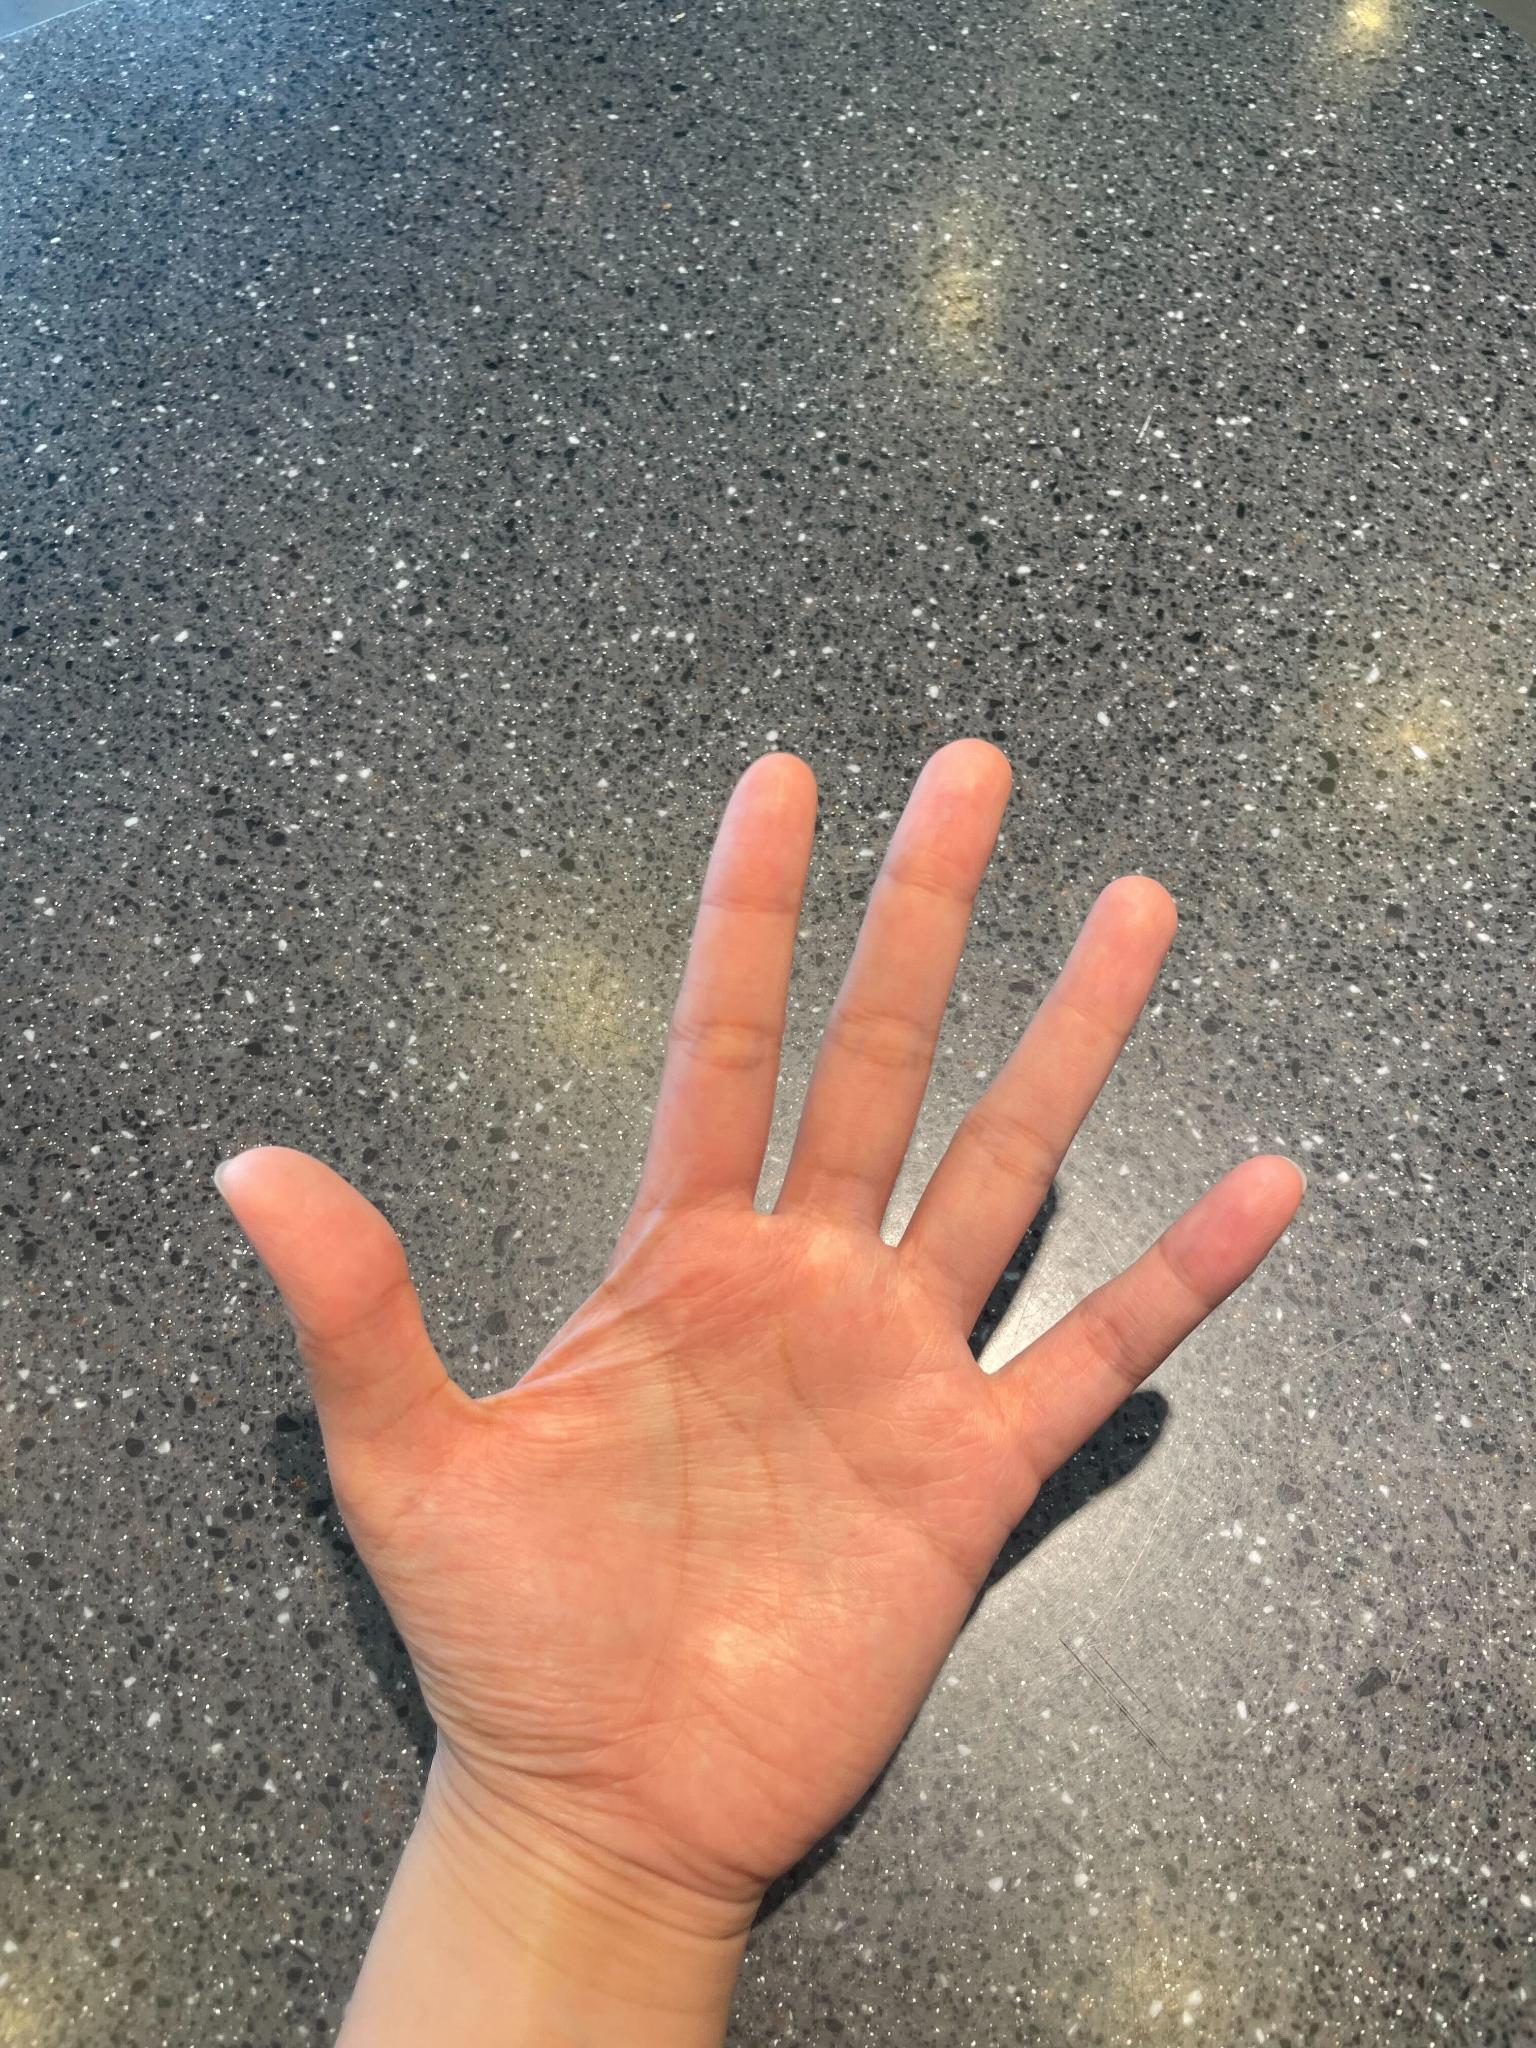open: (198, 729, 1326, 1977)
